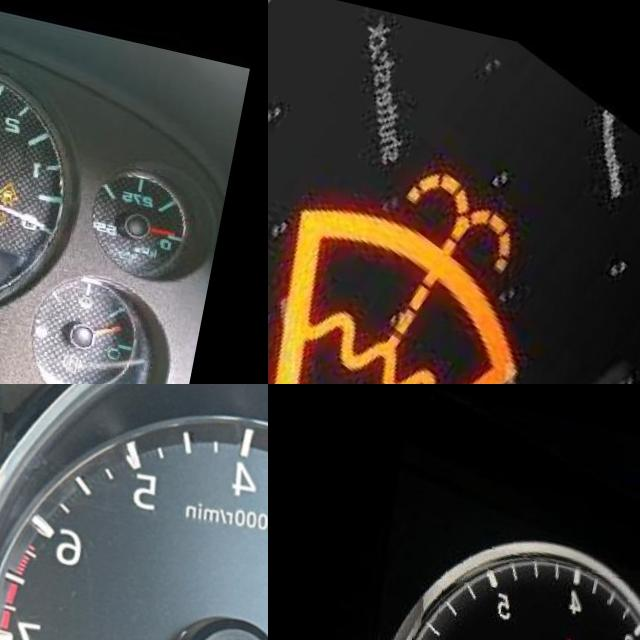Washer Fluid: (269, 134, 554, 384)
